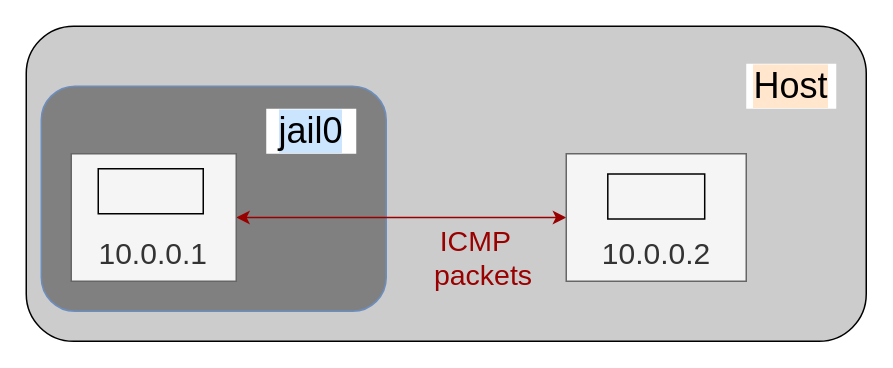
The diagram is 893 pixels wide and 368 high, and some of its shapes have lost their labels. The shapes that lost their labels are listed below. From the top down, each one's centre as x and y in pixels, then its label:
At (150,190): "wlan0".
At (655,195): "wlan1".
